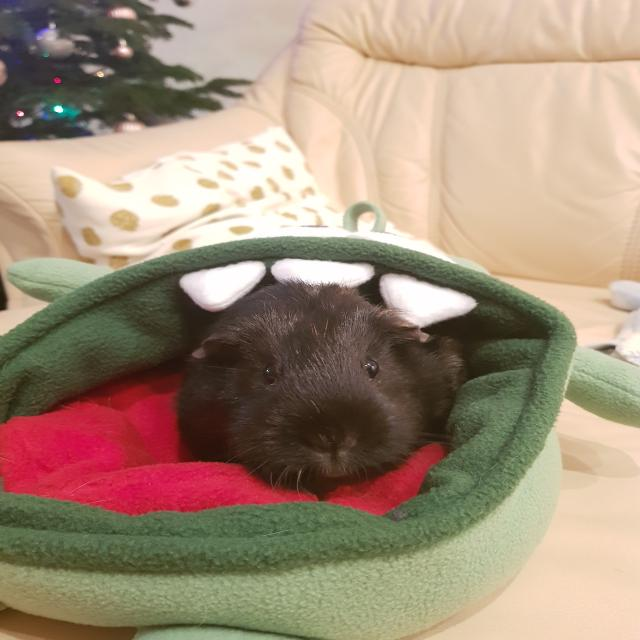guinea pig: (171, 278, 466, 504)
